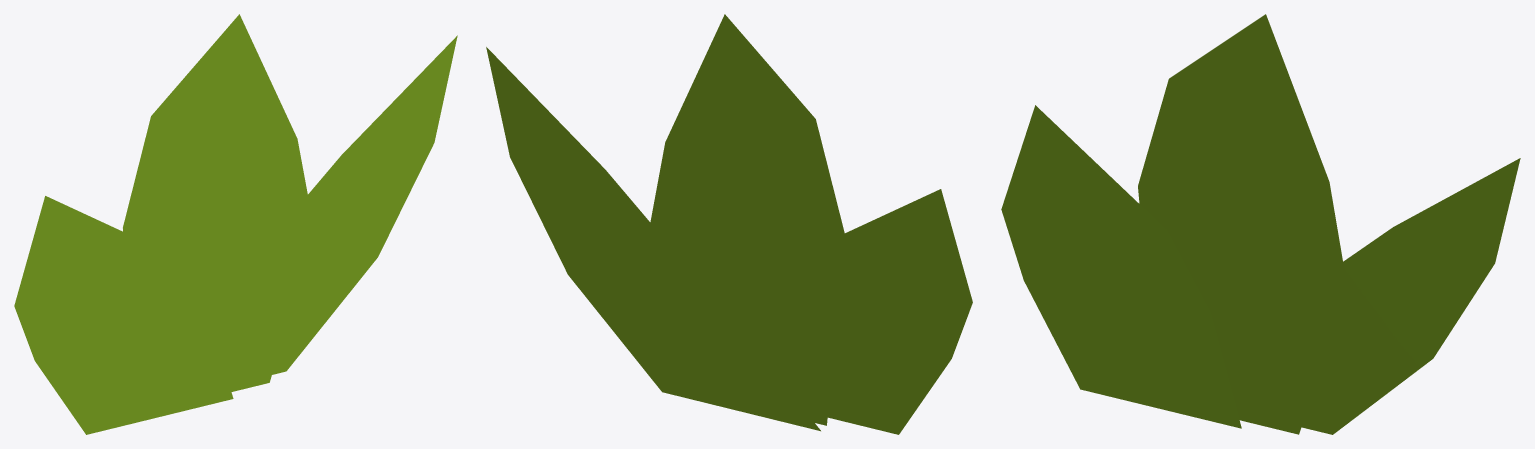
Rendered from grass_01.FBX.
3 renders of one model, left to right at view 1: azimuth 30°, elevation 25°; view 2: azimuth 150°, elevation 25°; view 3: azimuth 330°, elevation 25°, orthographic. The views are drawn at different scales.
Parts seen in each view (by area): view 1: grass_01; view 2: grass_01; view 3: grass_01.
Part boxes in pixels (box(x1,y1,x2,y2)): grass_01: box(14, 14, 457, 434); grass_01: box(486, 14, 972, 434); grass_01: box(1001, 14, 1520, 434).
Bounding box in the file's own units: 122 × 6.92 × 95.85.
Materials: 1 (1 with a texture image).
